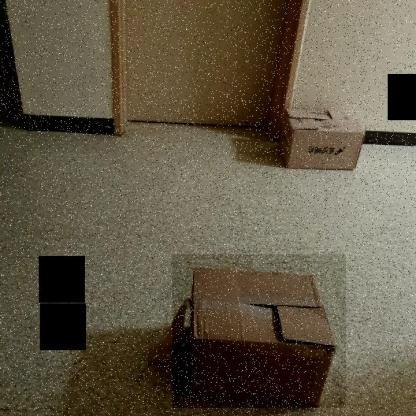-: (172, 254, 346, 408)
